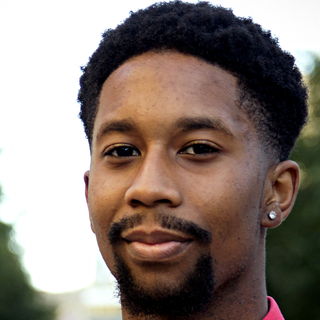eye: (172, 133, 227, 167), (94, 142, 144, 163)
